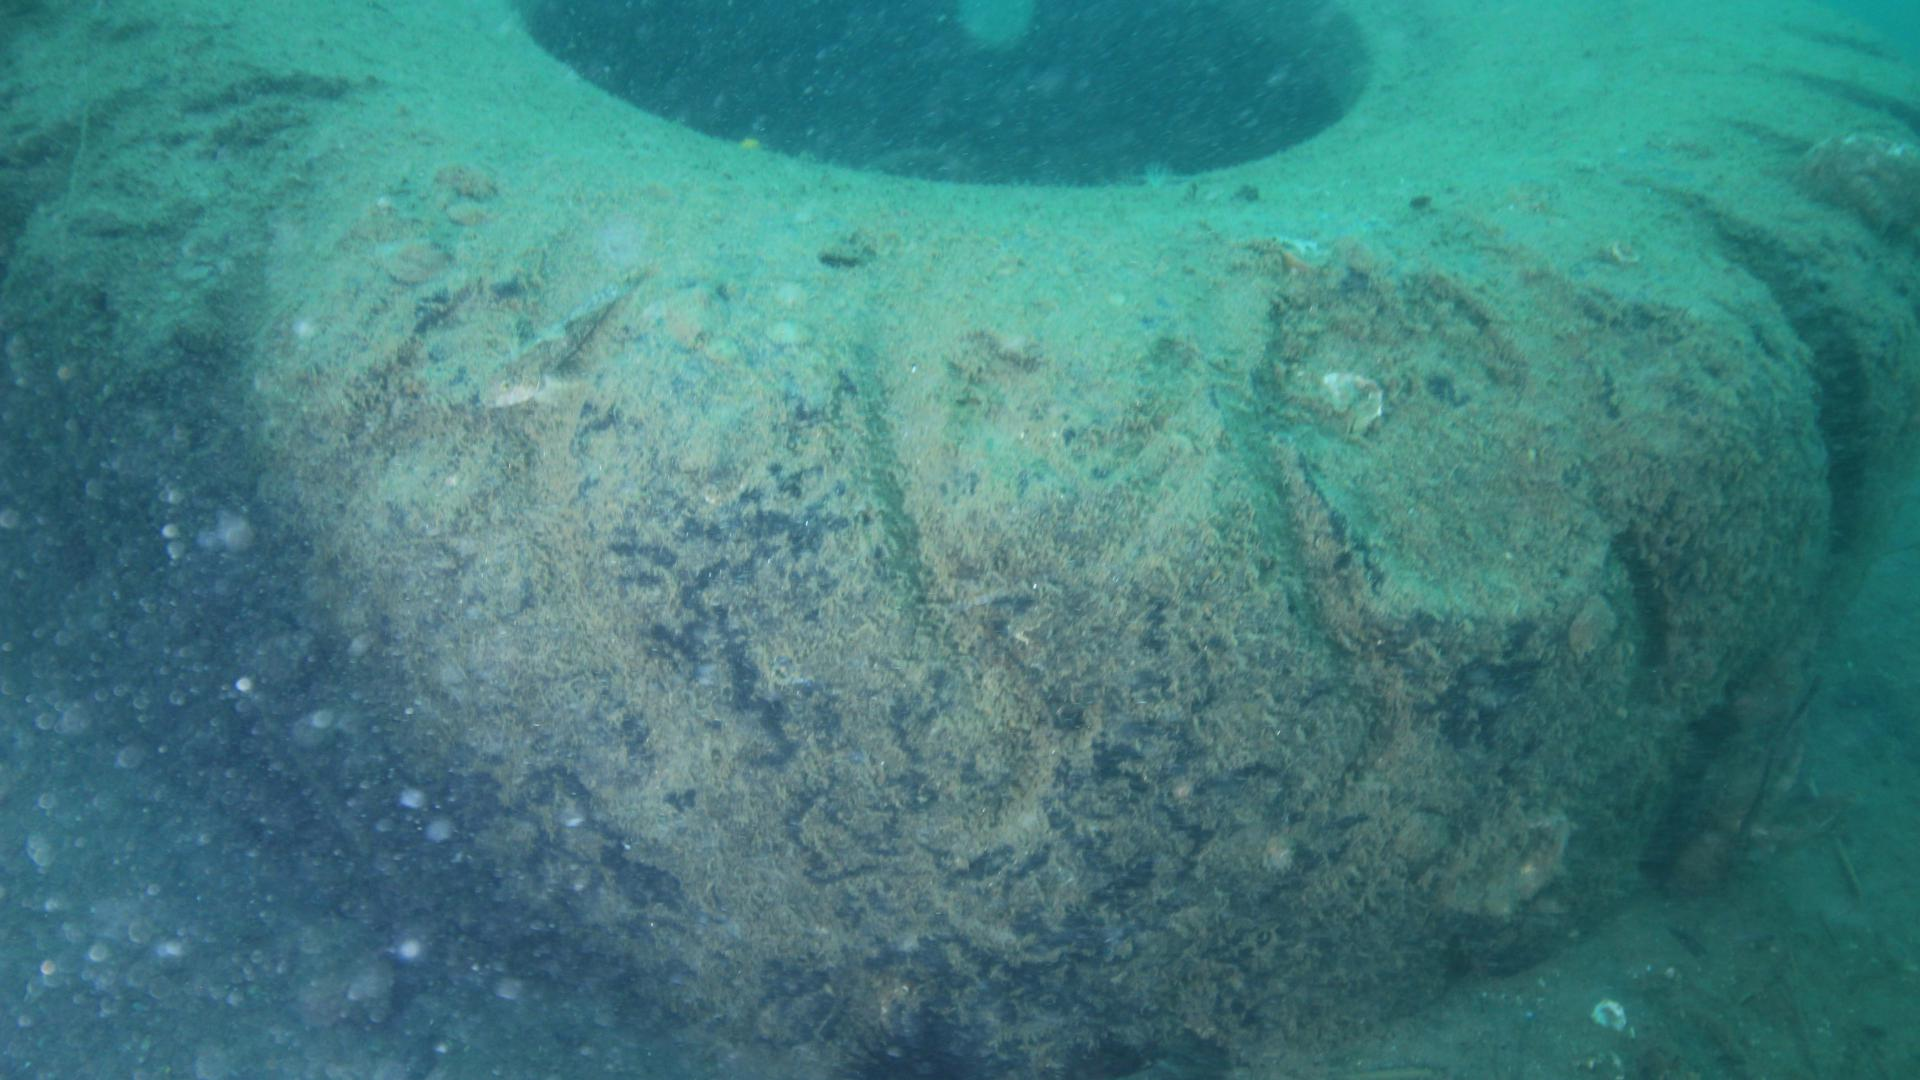tire: (3, 0, 1920, 1080)
